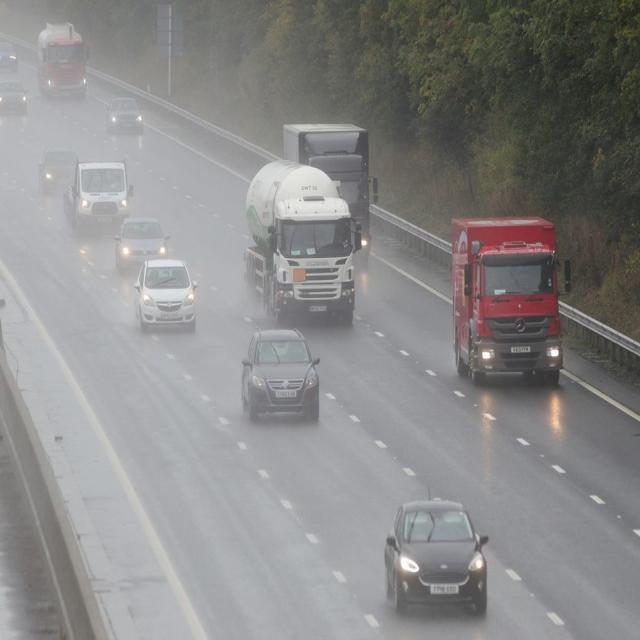bus: (248, 139, 366, 328), (450, 215, 561, 388), (282, 121, 372, 261), (64, 158, 130, 233), (38, 25, 87, 96)
car: (382, 500, 490, 620), (240, 327, 322, 425), (133, 256, 198, 331), (112, 215, 169, 274), (38, 147, 78, 193), (106, 96, 143, 134), (1, 78, 27, 113), (1, 40, 16, 66)
